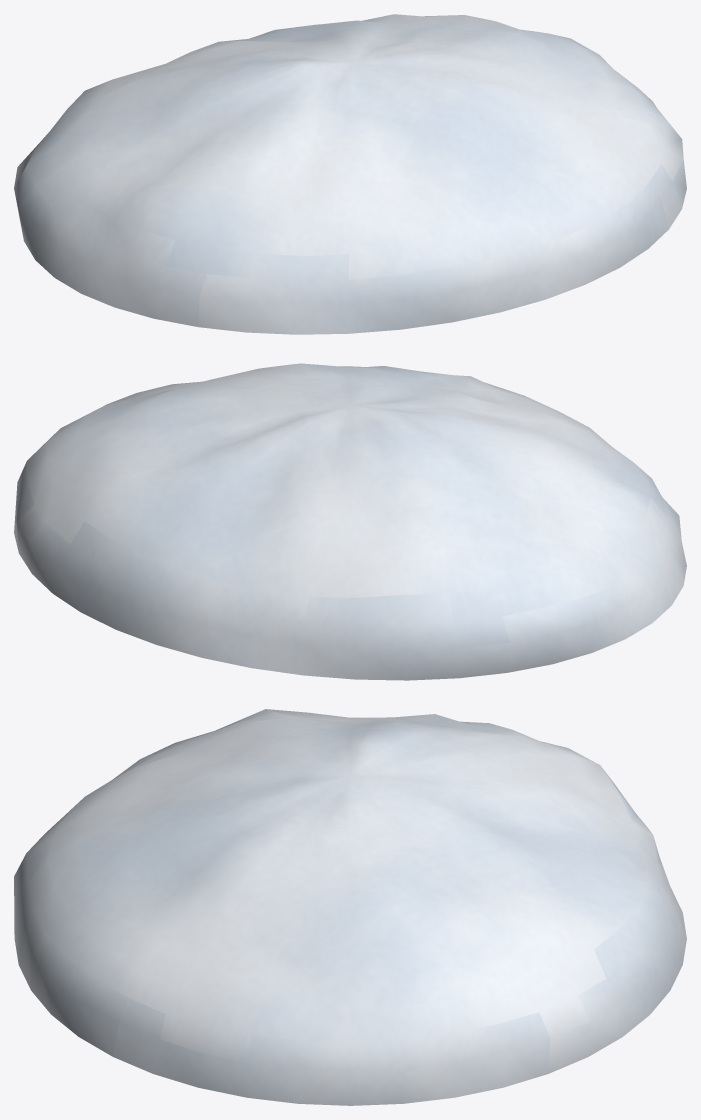
Rendered from SM_SnowMound_B.fbx.
The picture shows the model from 3 angles, top to bottom: view 1: azimuth 30°, elevation 25°; view 2: azimuth 150°, elevation 25°; view 3: azimuth 270°, elevation 25°; orthographic projection. The views are drawn at different scales.
Parts seen in each view (by area): view 1: SM_SnowMound_B; view 2: SM_SnowMound_B; view 3: SM_SnowMound_B.
Boxes of the visible parts, x1=… form: SM_SnowMound_B: x1=14, y1=14, x2=686, y2=334; SM_SnowMound_B: x1=14, y1=363, x2=686, y2=680; SM_SnowMound_B: x1=14, y1=709, x2=686, y2=1105.
Size of what is drawn, in the model's own units: 340 by 400 by 94.71.
